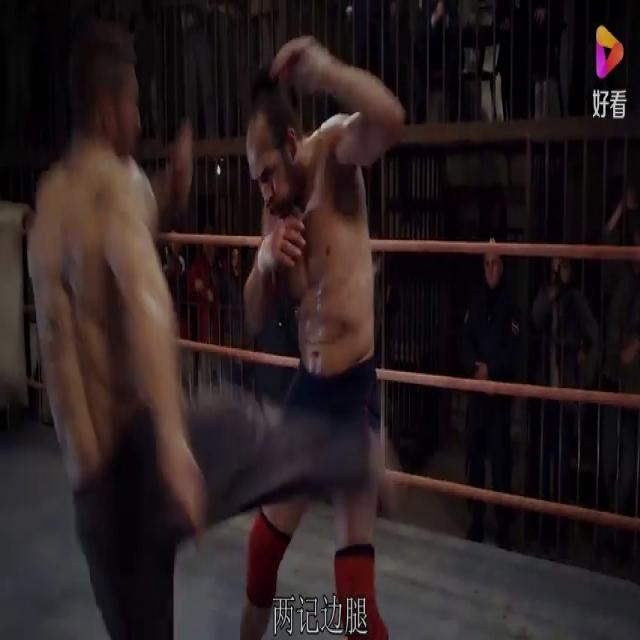fight: (15, 1, 415, 639)
